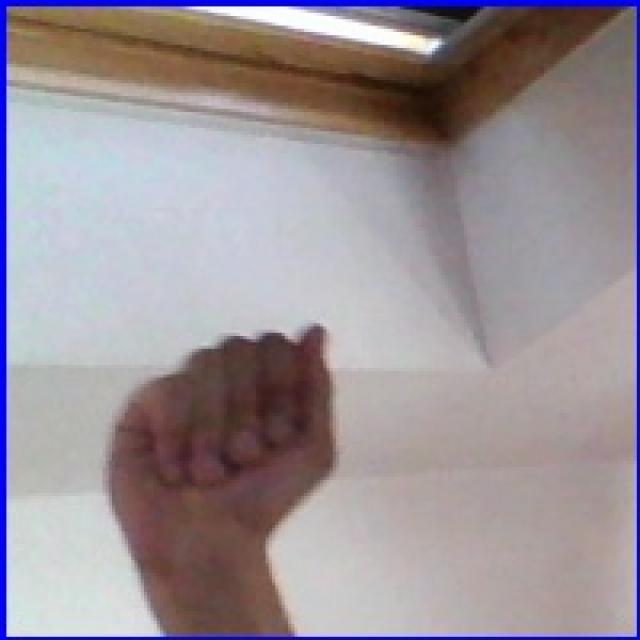Letra A: (102, 303, 335, 564)
